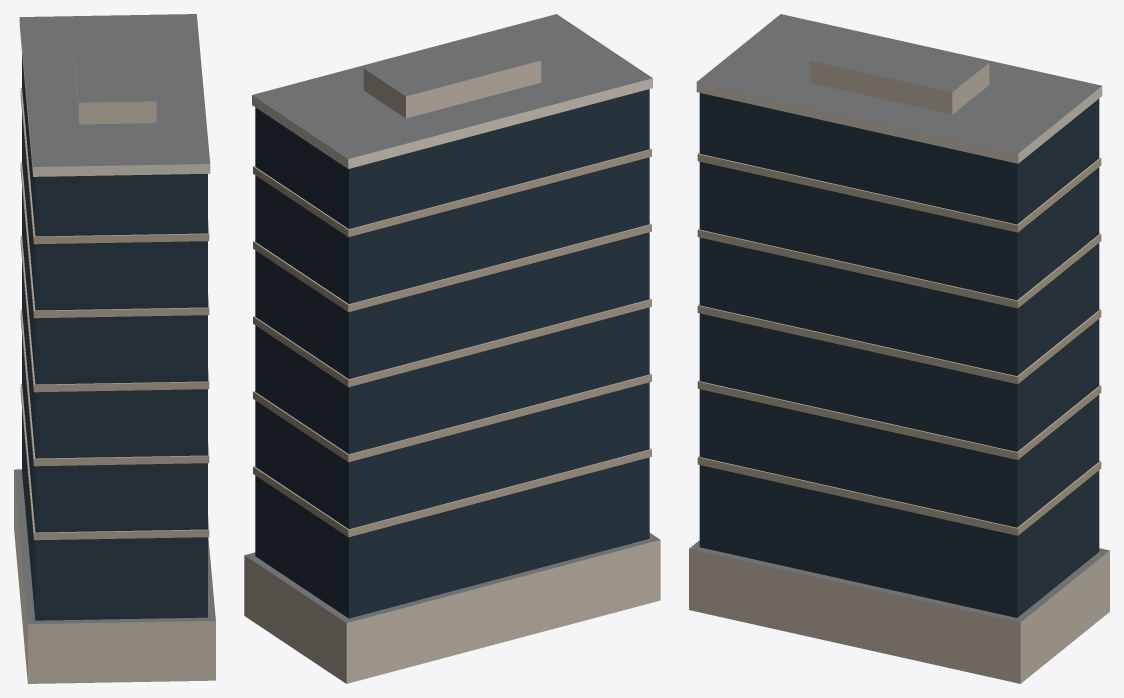
Rendered from bldg_w207630739.glb.
3 views of the same model, side by side, from view 1: azimuth 30°, elevation 25°; view 2: azimuth 150°, elevation 25°; view 3: azimuth 270°, elevation 25° (orthographic). The views are drawn at different scales.
Parts seen in each view (by area): view 1: Bldg_w207630739; view 2: Bldg_w207630739; view 3: Bldg_w207630739.
Boxes of the visible parts, box(x1,y1,x2,y2) form: Bldg_w207630739: box(14, 14, 215, 683); Bldg_w207630739: box(244, 14, 660, 683); Bldg_w207630739: box(689, 14, 1109, 683).
Bounding box in the file's own units: 43.41 × 76.1 × 52.83.
